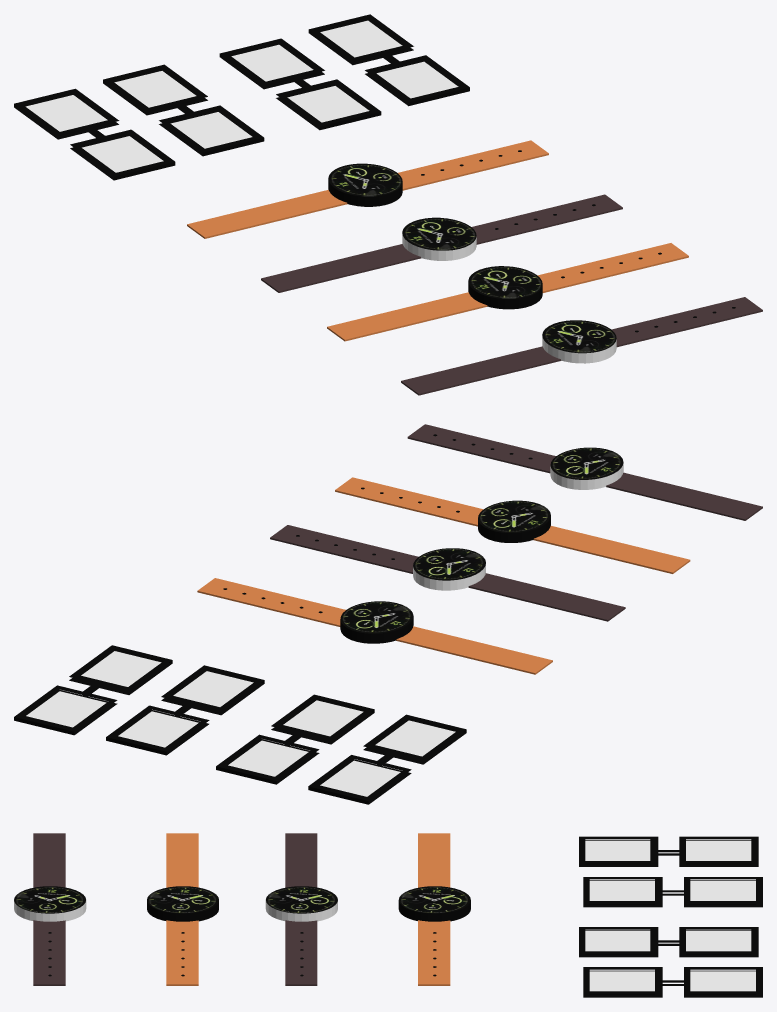
Rendered from accesories.fbx.
3 renders of one model, top to bottom at view 1: azimuth 30°, elevation 25°; view 2: azimuth 150°, elevation 25°; view 3: azimuth 270°, elevation 25°, orthographic. The views are drawn at different scales.
Visible parts, largest first — view 1: Cube.001, Cube.006, Cube.007, Cube.002, Cube.003, Cube.005, Cube.004, Cube, Cylinder, Cylinder.007, Cylinder.004, Cylinder.003; view 2: Cube.001, Cube.007, Cube.006, Cube.002, Cube, Cube.004, Cube.003, Cube.005, Cylinder, Cylinder.004, Cylinder.003, Cylinder.007; view 3: Cube.002, Cube.006, Cube.001, Cube.007, Cube.005, Cube, Cube.003, Cube.004, Cylinder, Cylinder.003, Cylinder.004, Cylinder.007.
Part boxes in pixels (x1,y1,x2,y2): Cube.001: (103,64,264,156); Cube.006: (219,38,381,130); Cube.007: (308,14,469,106); Cube.002: (14,88,175,180); Cube.003: (261,194,622,292); Cube.005: (327,243,688,341); Cube.004: (401,297,762,395); Cube: (187,140,548,238); Cylinder: (328,163,402,206); Cylinder.007: (468,266,542,309); Cylinder.004: (542,320,616,363); Cylinder.003: (402,217,476,260); Cube.001: (216,694,374,784); Cube.007: (14,645,172,735); Cube.006: (106,665,264,755); Cube.002: (308,714,466,804); Cube: (197,578,552,674); Cube.004: (407,424,762,520); Cube.003: (270,525,625,621); Cube.005: (335,477,690,573); Cylinder: (340,601,413,643); Cylinder.004: (550,447,623,489); Cylinder.003: (413,548,485,590); Cylinder.007: (478,500,550,542); Cube.002: (579,836,758,866); Cube.006: (579,927,758,957); Cube.001: (583,877,762,907); Cube.007: (583,967,762,997); Cube.005: (166,833,198,985); Cube: (418,833,450,985); Cube.003: (285,833,317,985); Cube.004: (33,833,65,985); Cylinder: (398,886,470,921); Cylinder.003: (265,886,337,921); Cylinder.004: (14,886,86,921); Cylinder.007: (147,886,218,921).
Bounding box in the file's own units: 112 × 5.11 × 224.
